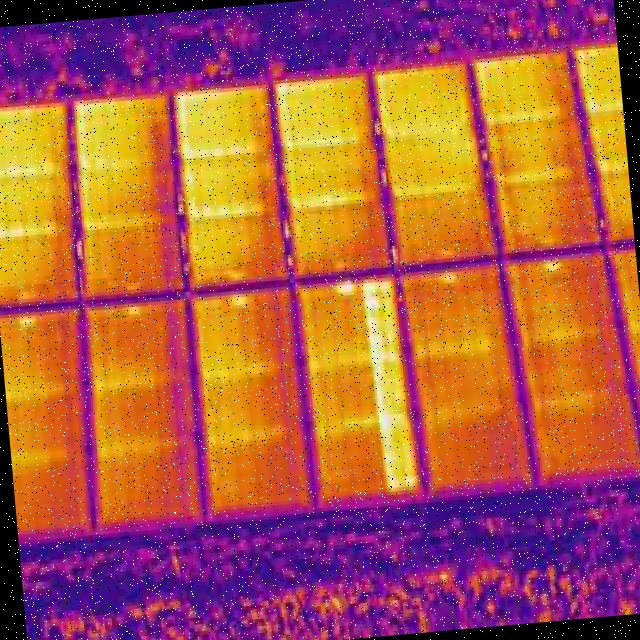Hotspot: (358, 277, 418, 496), (178, 129, 268, 167), (279, 123, 370, 159), (186, 192, 272, 226), (292, 185, 372, 214), (0, 215, 62, 242), (0, 156, 57, 182), (74, 146, 110, 178), (583, 94, 623, 118), (14, 312, 44, 337), (532, 254, 566, 276), (274, 80, 292, 120), (225, 287, 251, 313), (331, 274, 358, 299), (173, 92, 188, 130), (434, 266, 462, 286), (116, 299, 142, 319)
